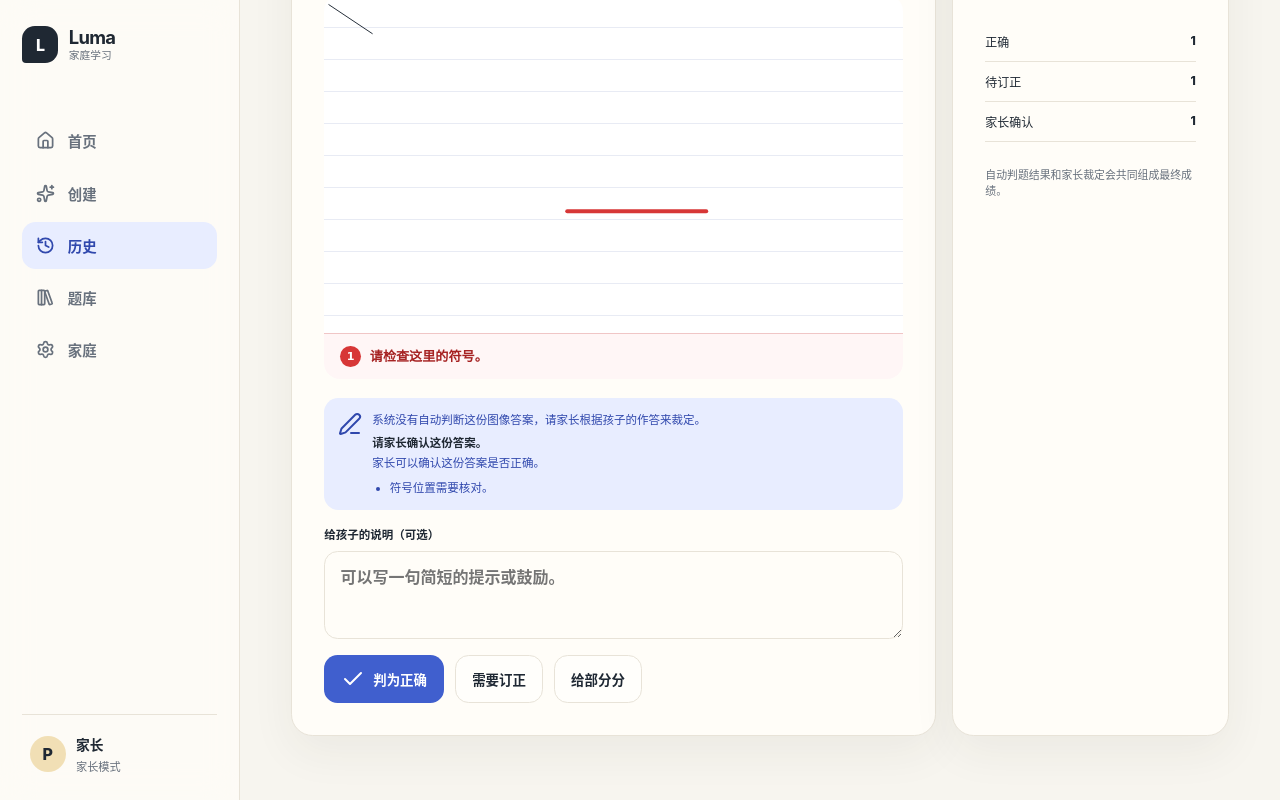
Test case: ParentResultsPage › loads a real handwriting review and lets the parent decide
(page scrolled)
expect the list item "请检查这里的符号。" is shown: met, box [370, 349, 488, 364]
expect the text "请家长确认这份答案。" is shown: met, box [372, 436, 487, 450]
Click the button "判为正确": (384, 679) [324, 655, 444, 703]
(page scrolled)
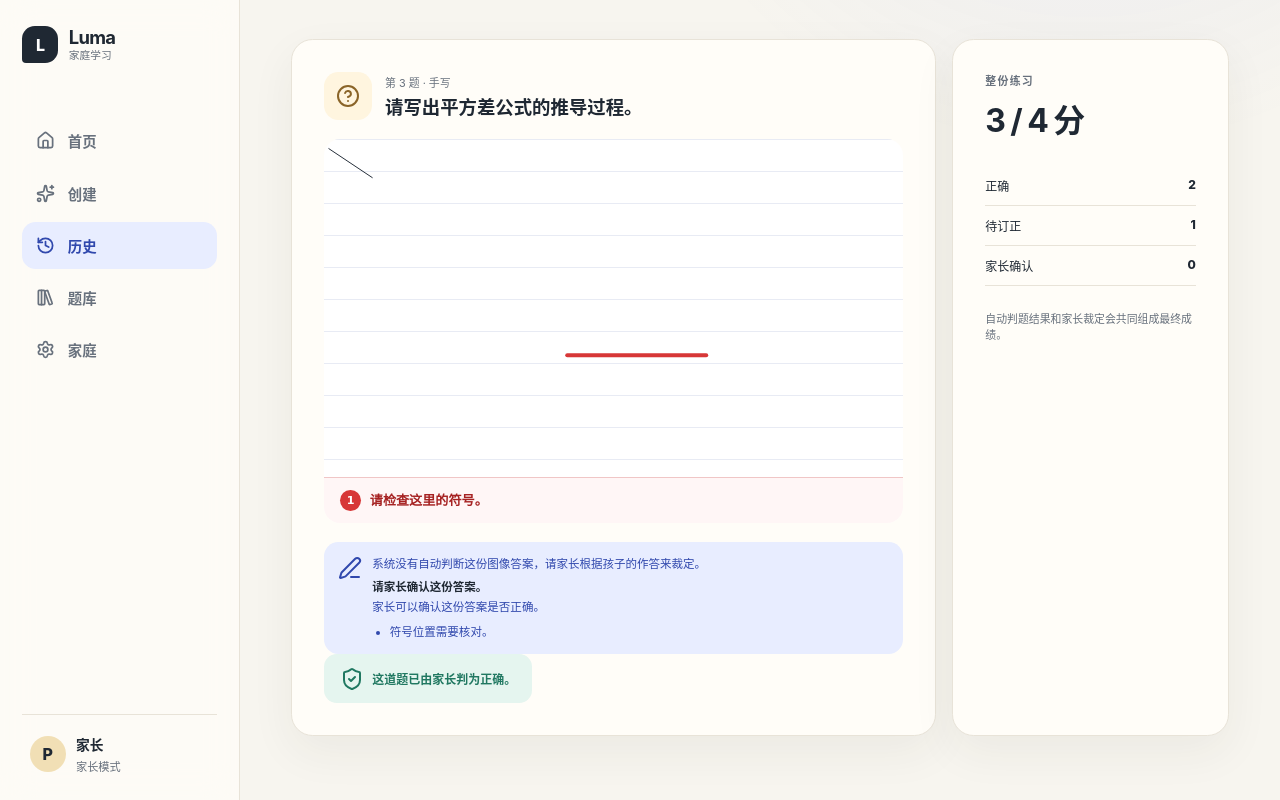
expect the text "这道题已由家长判为正确。" is shown: met, box [372, 670, 516, 687]
